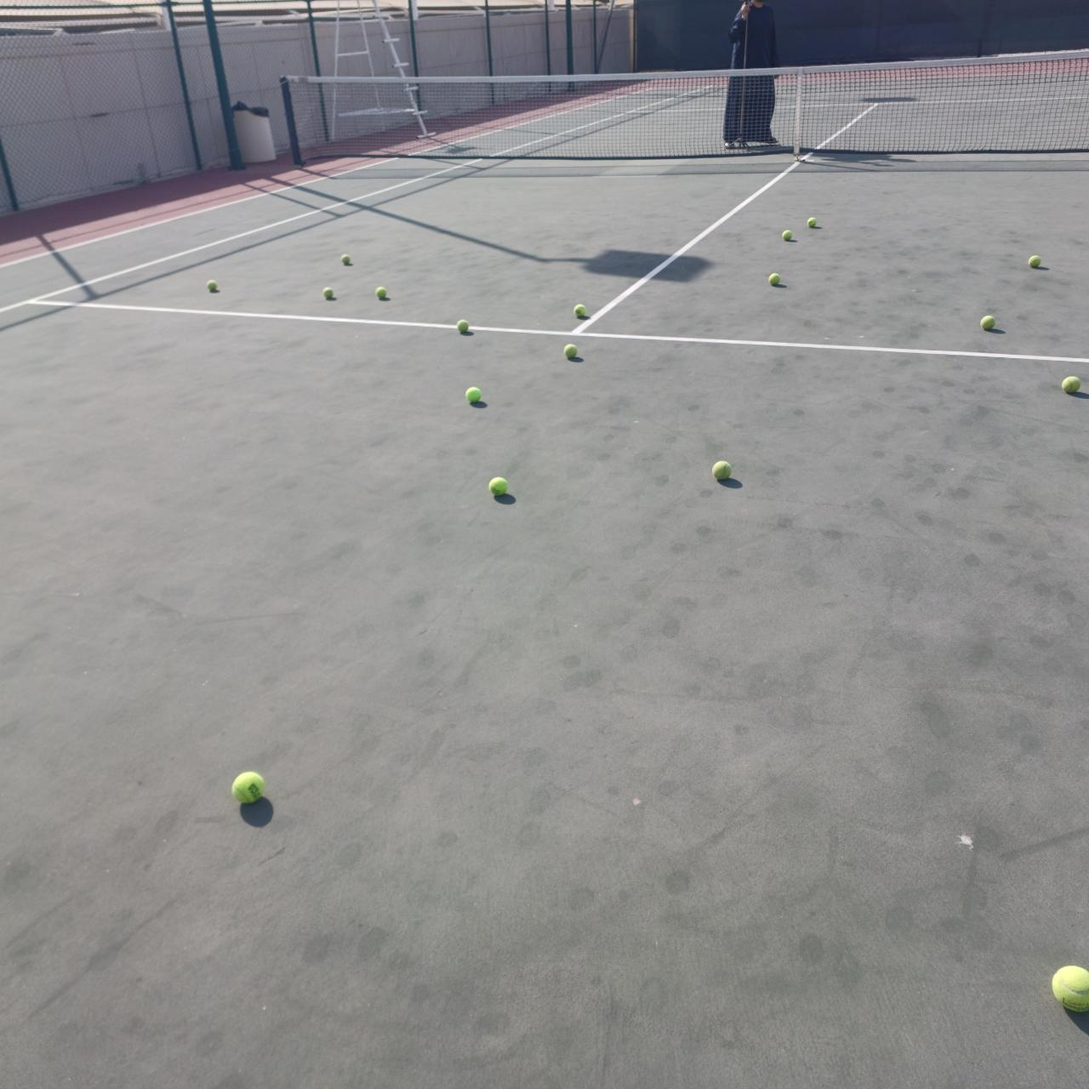tennis-ball: (1050, 962, 1088, 1012), (230, 768, 265, 804), (710, 458, 732, 480), (487, 474, 508, 495), (1060, 373, 1080, 393), (464, 385, 482, 403), (979, 314, 995, 330), (562, 342, 577, 358), (573, 303, 586, 318), (457, 318, 470, 332), (1028, 255, 1041, 268), (375, 286, 387, 299), (769, 272, 780, 286), (323, 287, 334, 299), (782, 229, 793, 241), (207, 280, 217, 291), (807, 217, 817, 228), (341, 254, 350, 265)
